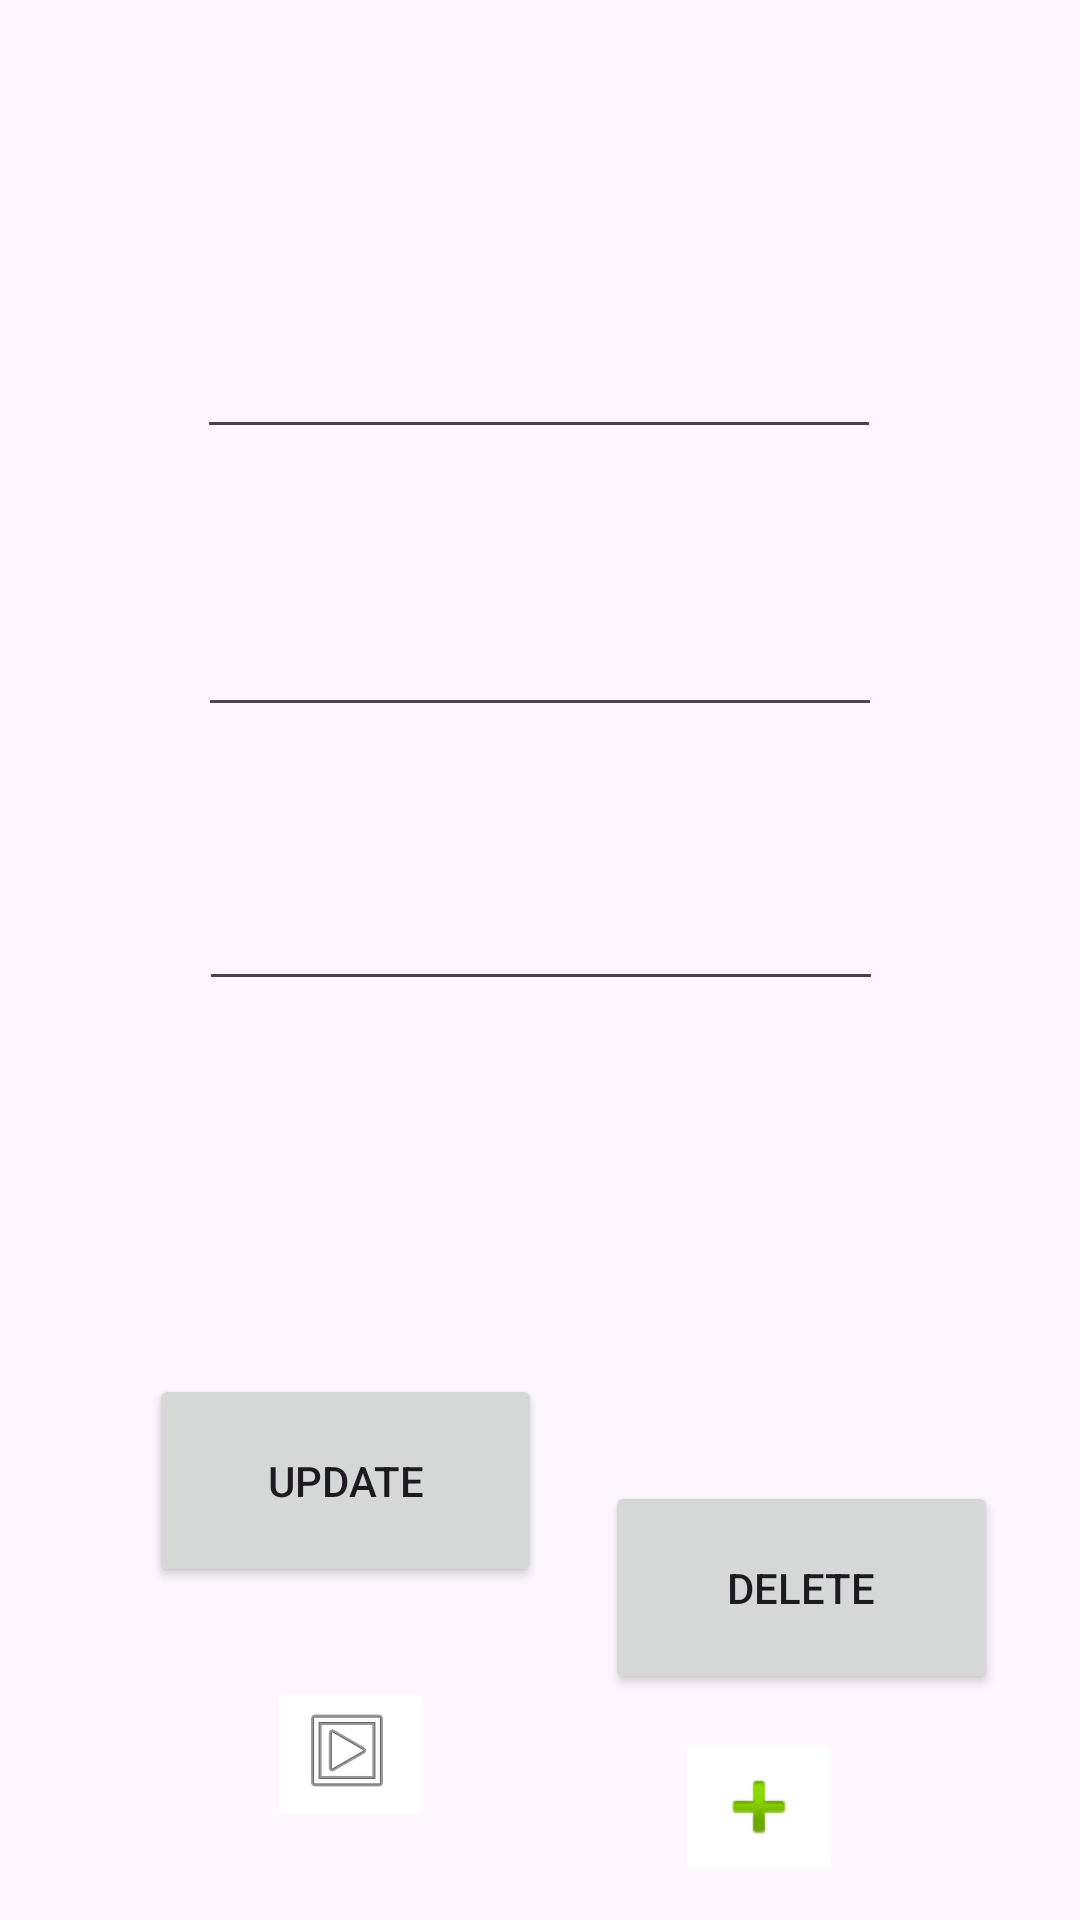

Where icons sit on this 1080px×1920px app screen, as (x1, y1, x2, y2):
add: (732, 1780, 786, 1834)
slideshow: (311, 1714, 383, 1787)
